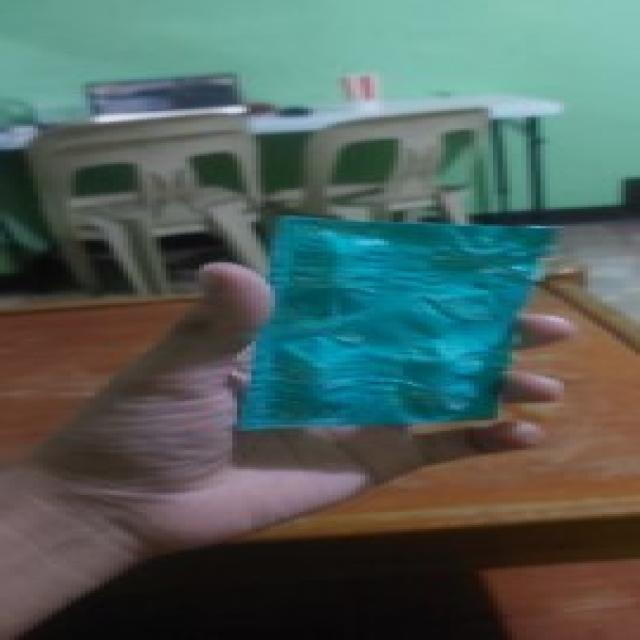Cacat: (233, 212, 560, 426)
